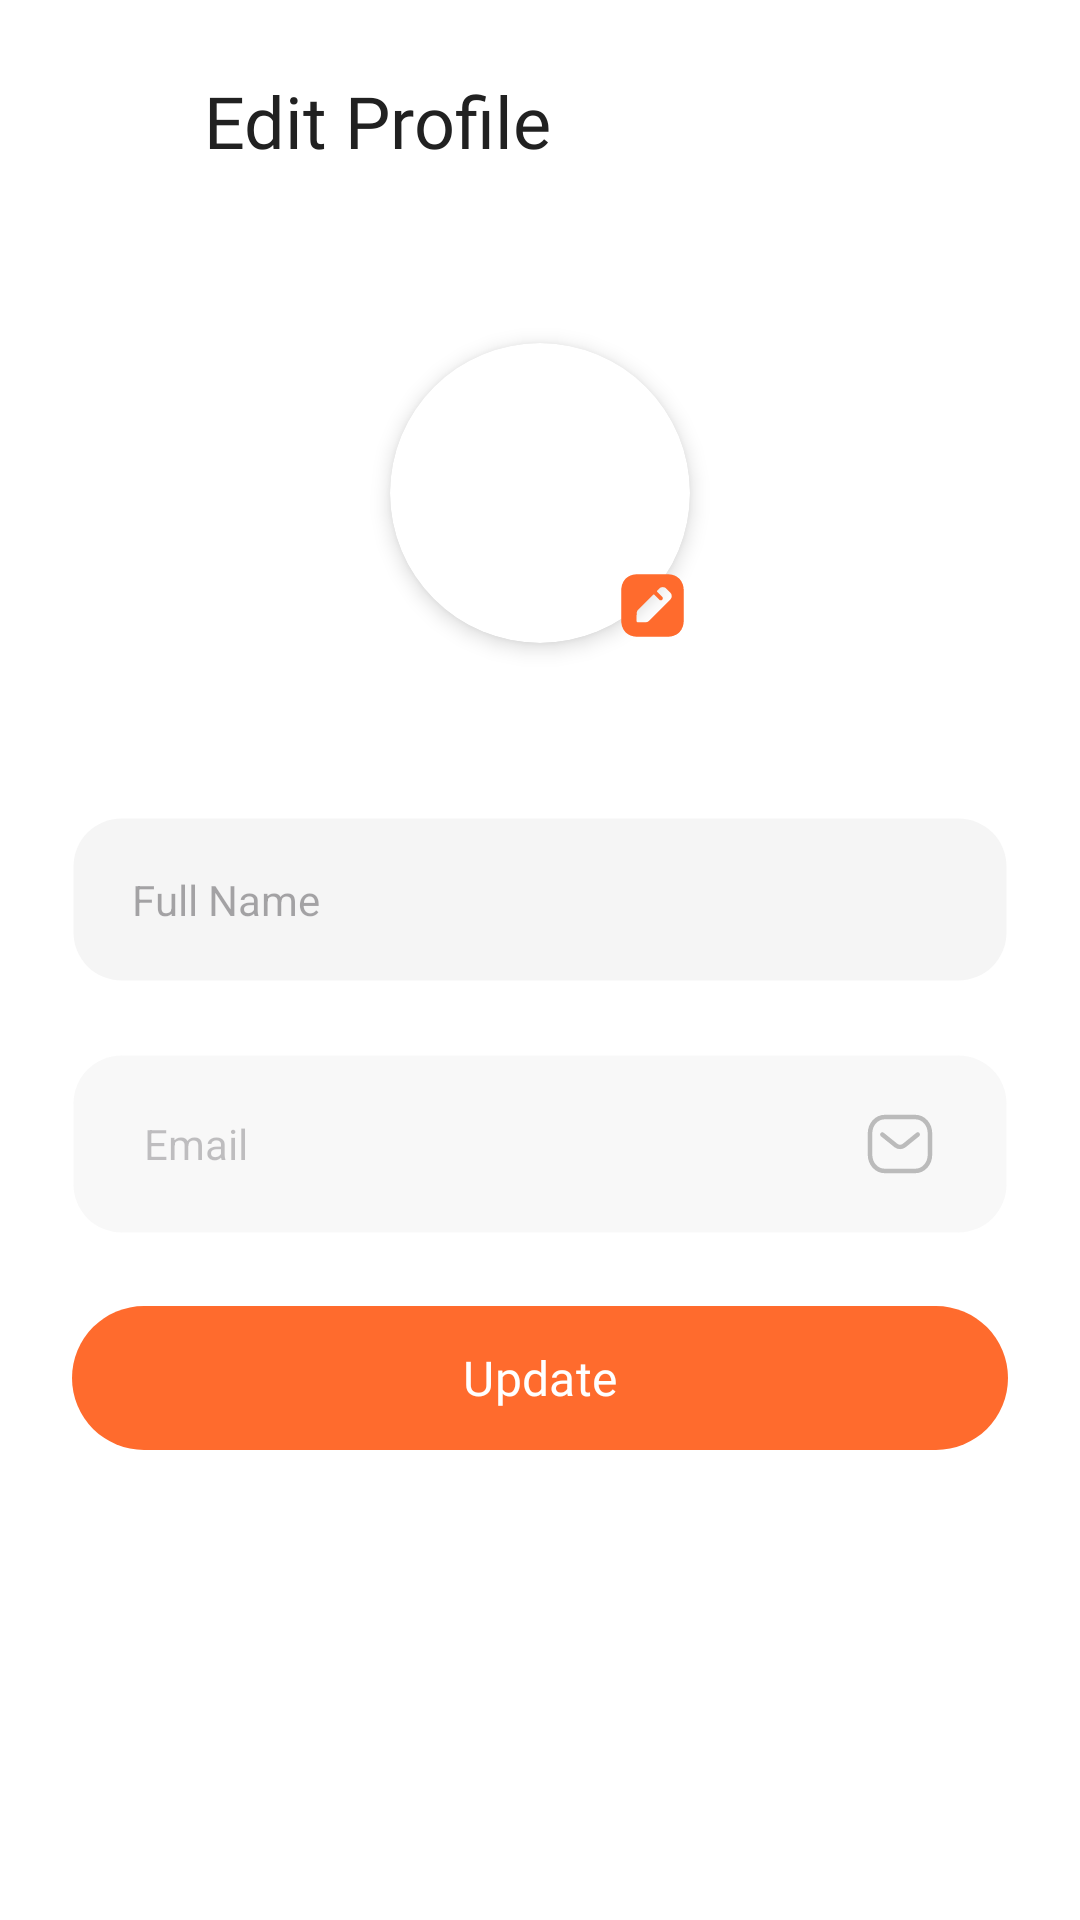

Named icons in this screenshot (1080*1920) and their bounding boxes, (x1, y1, x2, y2):
Edit Profile: (600, 555, 684, 637)
